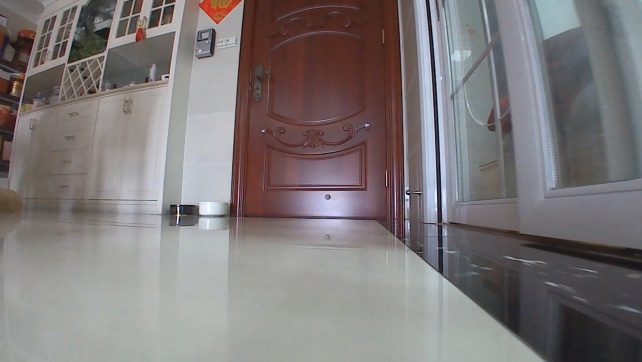door_anno: (228, 0, 404, 221)
